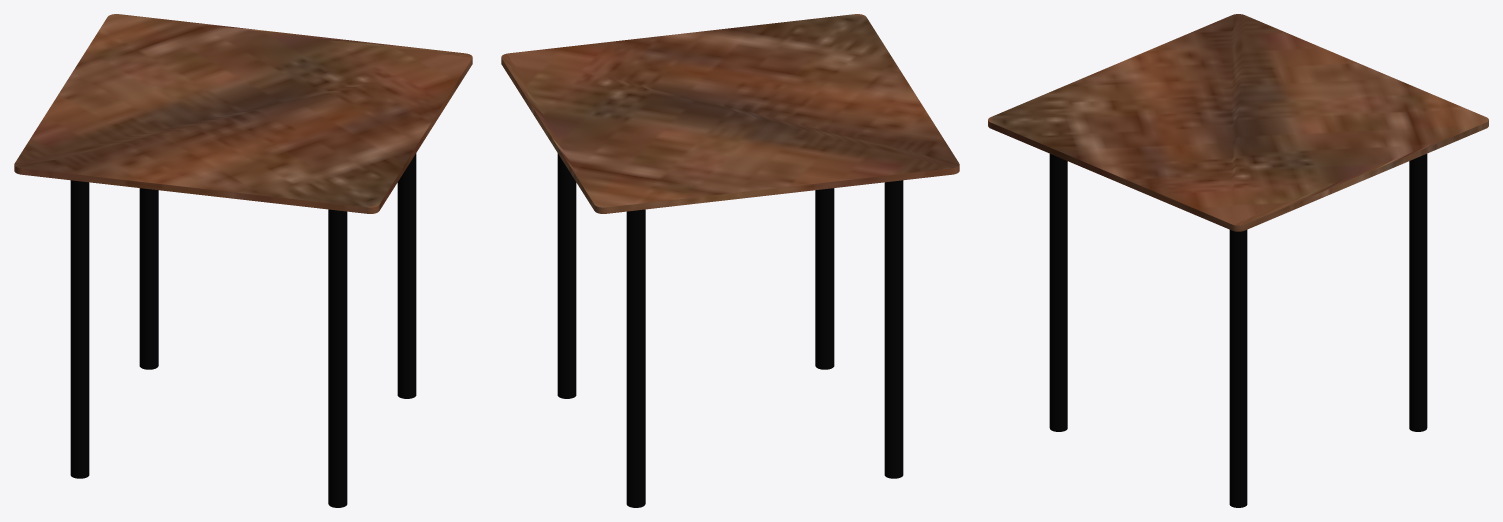
Rendered from table_new.fbx.
The picture shows the model from 3 angles, left to right: view 1: azimuth 30°, elevation 25°; view 2: azimuth 150°, elevation 25°; view 3: azimuth 270°, elevation 25°; orthographic projection. The views are drawn at different scales.
Visible parts, largest first — view 1: board, leg2, leg4, leg1, leg3; view 2: board, leg2, leg3, leg1, leg4; view 3: board, leg1, leg4, leg3.
Part boxes in pixels (<box>): board: <box>14,14,472,213</box>; leg2: <box>70,180,89,478</box>; leg4: <box>328,209,347,507</box>; leg1: <box>397,153,416,398</box>; leg3: <box>139,188,158,369</box>; board: <box>501,14,959,213</box>; leg2: <box>884,180,903,478</box>; leg3: <box>626,209,645,507</box>; leg1: <box>557,153,576,398</box>; leg4: <box>815,188,834,369</box>; board: <box>988,14,1488,231</box>; leg1: <box>1229,230,1247,507</box>; leg4: <box>1049,154,1067,431</box>; leg3: <box>1409,154,1427,431</box>.
Bounding box in the file's own units: 1115 × 758 × 1115.
